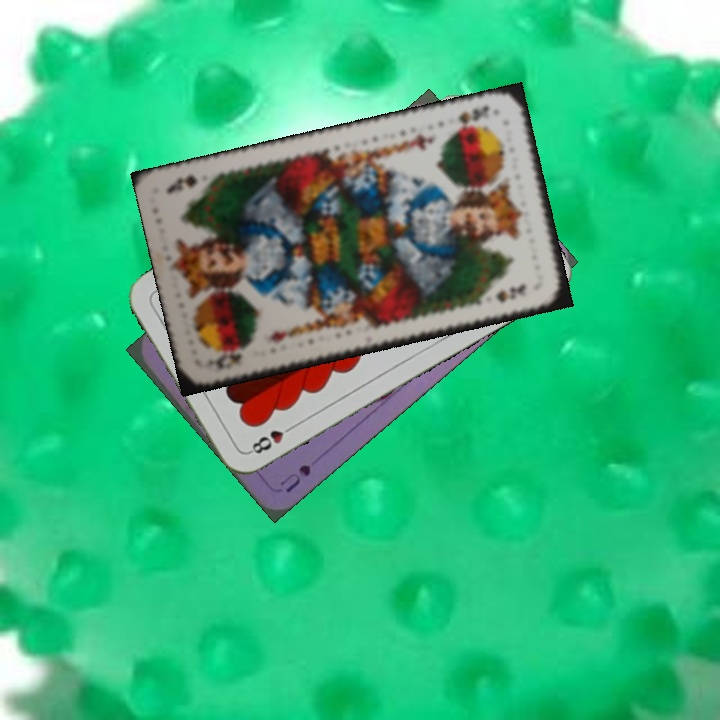H8: (244, 420, 298, 457)
SK: (449, 102, 491, 133), (206, 347, 244, 372)
SU: (276, 460, 314, 495)
